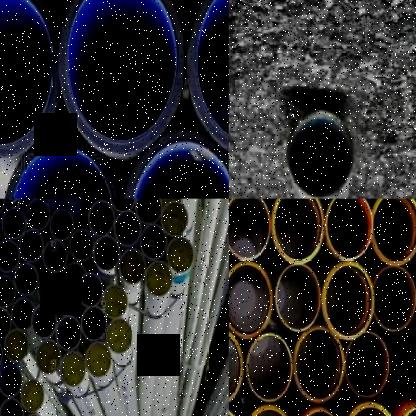pipe: (57, 0, 184, 156), (0, 0, 59, 159), (1, 134, 122, 199), (122, 127, 228, 199), (287, 108, 354, 199), (322, 261, 374, 340), (293, 326, 345, 403), (229, 261, 273, 339), (272, 199, 324, 264), (246, 333, 292, 402), (275, 265, 321, 332), (370, 199, 416, 265), (372, 266, 416, 331), (346, 332, 389, 397), (326, 199, 372, 259), (229, 199, 270, 260), (385, 326, 416, 394), (229, 326, 243, 406), (166, 236, 194, 274), (139, 224, 168, 260), (144, 260, 172, 297), (118, 249, 146, 285), (92, 235, 120, 271), (114, 211, 142, 247), (106, 317, 133, 354), (30, 303, 57, 339), (161, 200, 188, 236), (60, 350, 86, 387), (80, 306, 108, 340), (101, 284, 128, 318), (88, 201, 115, 235), (86, 342, 112, 377), (36, 339, 62, 374), (56, 315, 82, 350), (52, 281, 78, 316), (78, 272, 104, 307), (19, 378, 45, 413), (42, 240, 68, 272), (11, 297, 35, 331), (343, 401, 397, 416), (4, 330, 29, 362), (14, 263, 39, 295), (19, 230, 44, 262), (1, 208, 26, 240), (26, 199, 51, 231), (70, 228, 94, 260), (50, 208, 74, 240), (0, 363, 22, 397), (134, 198, 162, 223), (38, 274, 60, 304), (0, 240, 20, 272), (243, 404, 295, 416), (0, 274, 16, 306), (62, 262, 87, 282), (0, 397, 23, 416), (297, 407, 343, 416), (0, 308, 11, 339), (109, 199, 137, 211), (398, 406, 415, 416), (21, 413, 46, 416)
